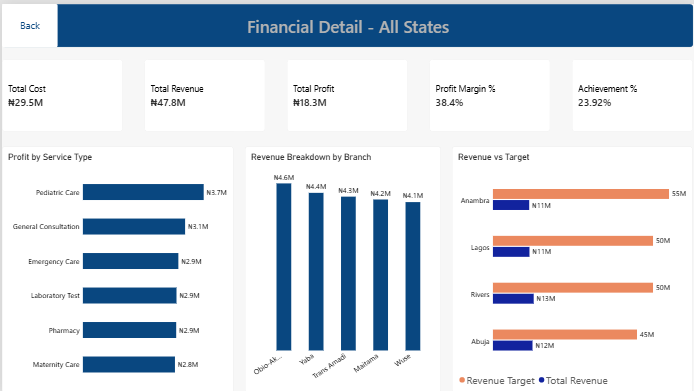

This screenshot's page, from the dashboard's own definition file:
{"tool":"powerbi","page":{"name":"Drill-through - Financial Detail","canvas":[1920,1080],"ordinal":9},"visuals":[{"type":"cardVisual","fields":{"Data":["Date_Table.Drill Title Finance"]},"box":[0,0,1920,120],"z":0},{"type":"actionButton","box":[0,0,155,120],"z":1},{"type":"cardVisual","fields":{"Data":["Date_Table.Achievement %"]},"box":[1585,155,335,200],"z":2},{"type":"cardVisual","fields":{"Data":["Date_Table.Profit Margin %"]},"box":[1188.8,155,335,200],"z":3},{"type":"cardVisual","fields":{"Data":["Date_Table.Total Cost"]},"box":[0,155,335,200],"z":4},{"type":"cardVisual","fields":{"Data":["Date_Table.Total Revenue"]},"box":[396.2,155,335,200],"z":5},{"type":"cardVisual","fields":{"Data":["Date_Table.Total Profit"]},"box":[790,155,335,200],"z":6},{"type":"clusteredBarChart","title":"Profit by Service Type","fields":{"Category":["Patient_Visits.Service"],"Y":["Date_Table.Total Profit"]},"box":[0,393.9,642.4,686.9],"z":7},{"type":"columnChart","title":"Revenue Breakdown by Branch","fields":{"Category":["Patient_Visits.Branch"],"Y":["Date_Table.Total Revenue"]},"box":[675.2,393.9,543.9,686.9],"z":8},{"type":"clusteredBarChart","title":"Revenue vs Target","fields":{"Category":["State_Targets.State"],"Y":["Date_Table.Revenue Target","Date_Table.Total Revenue"]},"box":[1252,393.9,668.2,686.9],"z":9}]}

Visuals, with their boxes in screenshot pixels (x1, y1, x2, y2), scaled from the page's 1920x1080 canvas onto the 694x391 screenshot:
cardVisual - Date_Table.Drill Title Finance: bbox=[0, 0, 693, 43]
actionButton: bbox=[0, 0, 56, 43]
cardVisual - Date_Table.Achievement %: bbox=[573, 56, 693, 129]
cardVisual - Date_Table.Profit Margin %: bbox=[430, 56, 551, 129]
cardVisual - Date_Table.Total Cost: bbox=[0, 56, 121, 129]
cardVisual - Date_Table.Total Revenue: bbox=[143, 56, 264, 129]
cardVisual - Date_Table.Total Profit: bbox=[286, 56, 407, 129]
"Profit by Service Type" clusteredBarChart: bbox=[0, 143, 232, 390]
"Revenue Breakdown by Branch" columnChart: bbox=[244, 143, 441, 390]
"Revenue vs Target" clusteredBarChart: bbox=[453, 143, 693, 390]
